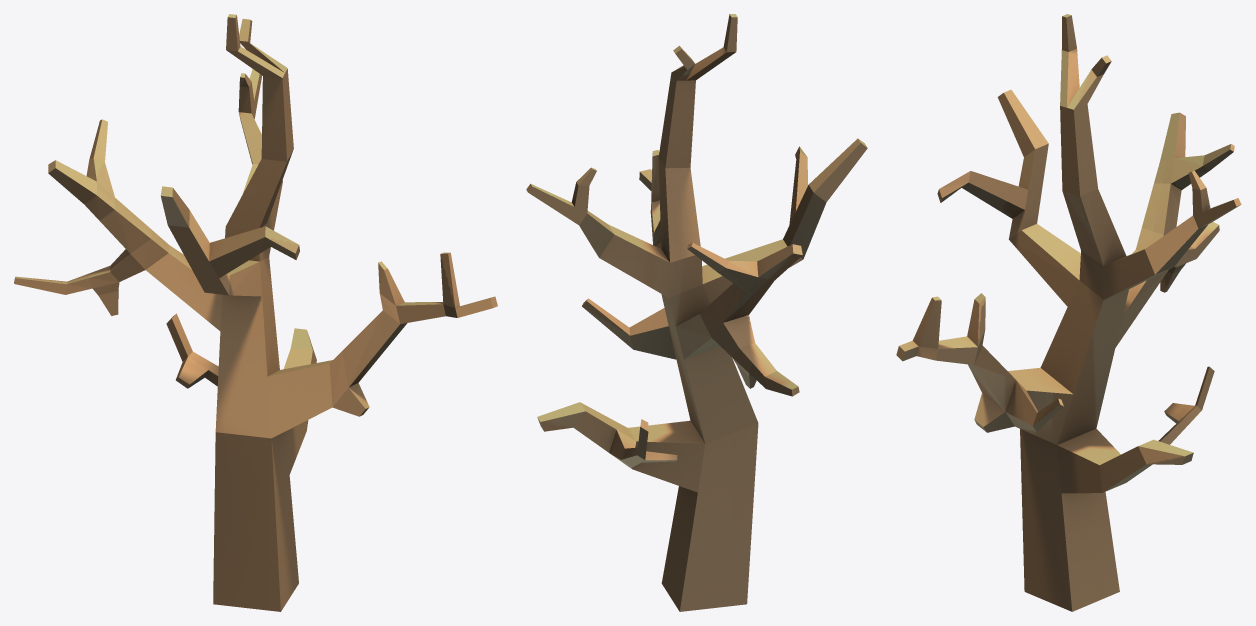
The model's file is dead_1.gltf.
The picture shows the model from 3 angles, left to right: view 1: azimuth 30°, elevation 25°; view 2: azimuth 150°, elevation 25°; view 3: azimuth 270°, elevation 25°; orthographic projection. The views are drawn at different scales.
Visible parts, largest first — view 1: node-0; view 2: node-0; view 3: node-0.
Part boxes in pixels (x1,y1,x2,y2): node-0: [14, 14, 497, 611]; node-0: [526, 14, 867, 611]; node-0: [896, 14, 1241, 611].
Bounding box in the file's own units: 1.28 × 2.23 × 1.24.
1 material, 1 textured.
